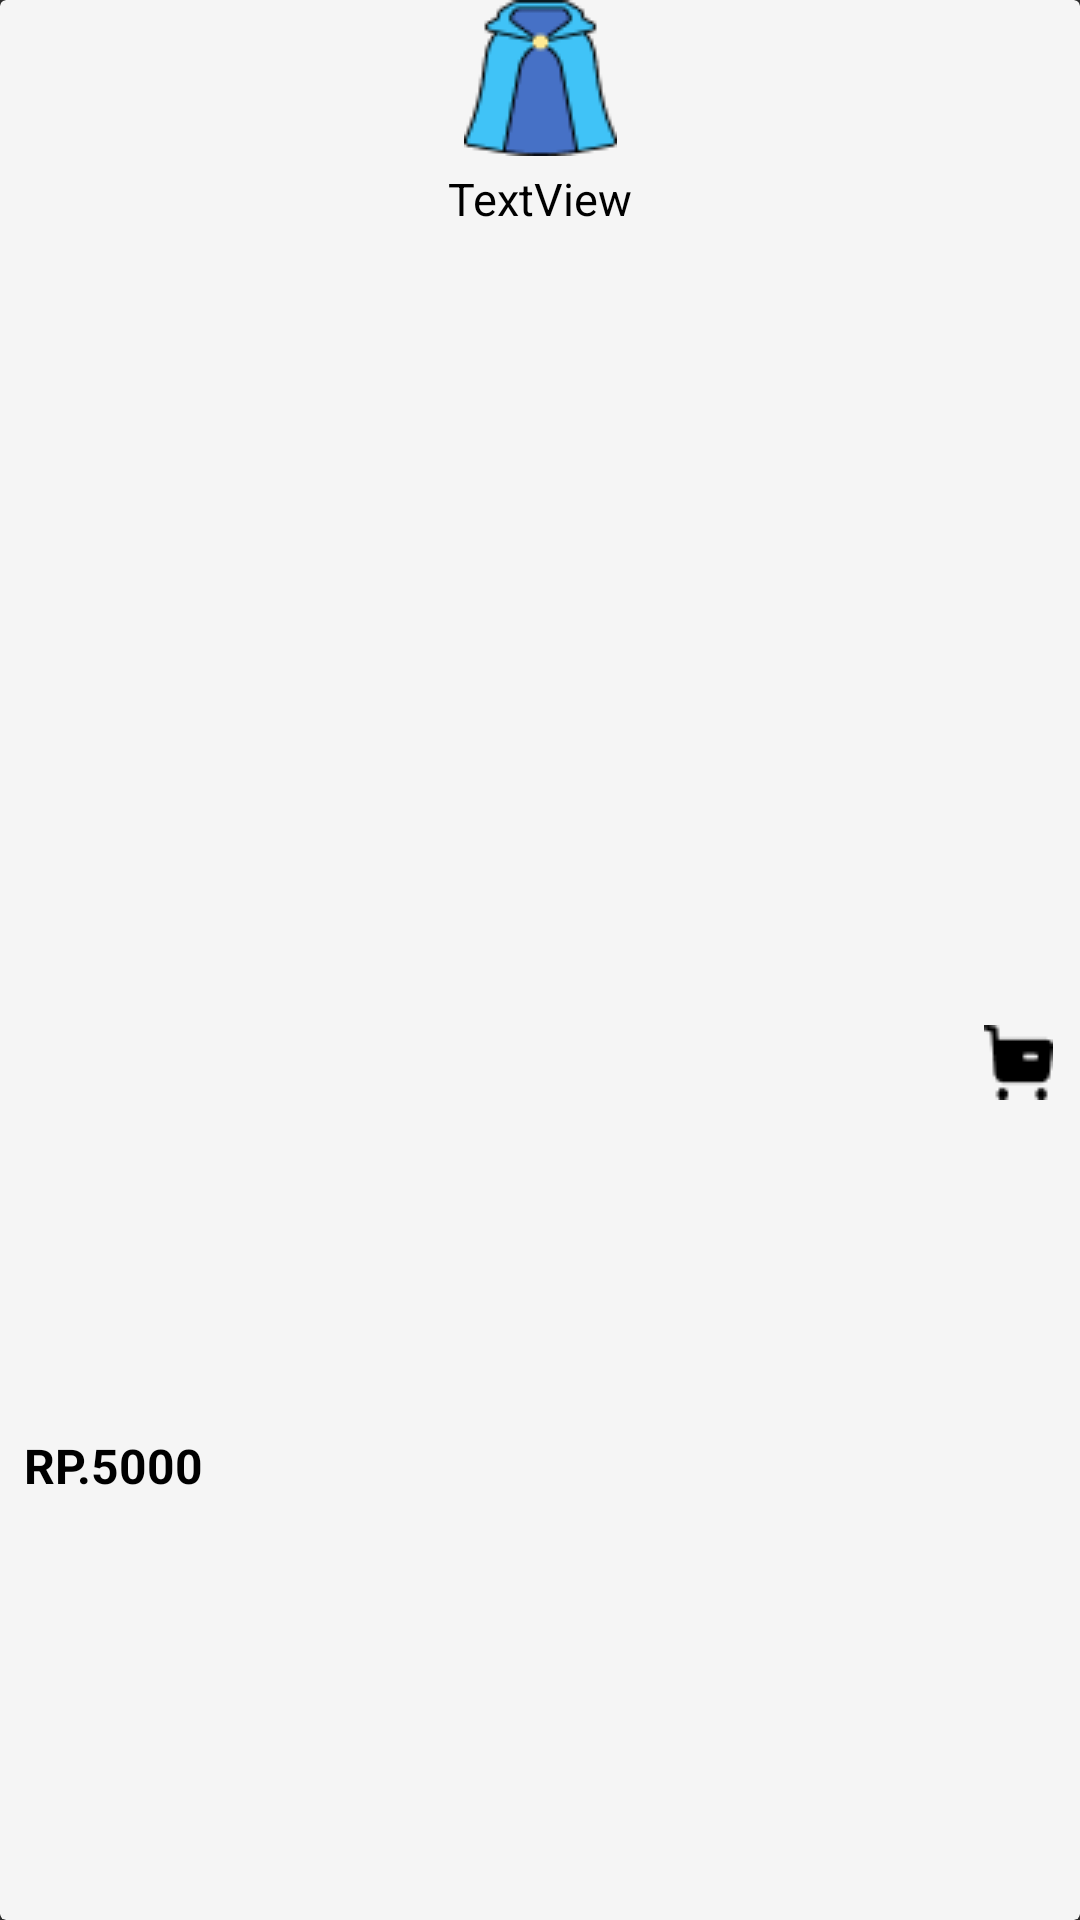

Locate icon controls on the screen. Image size 1080*1920, boxes as {"x1": x1, "y1": y1, "x2": x2, "y2": y2}.
buy: {"x1": 984, "y1": 1025, "x2": 1053, "y2": 1100}
